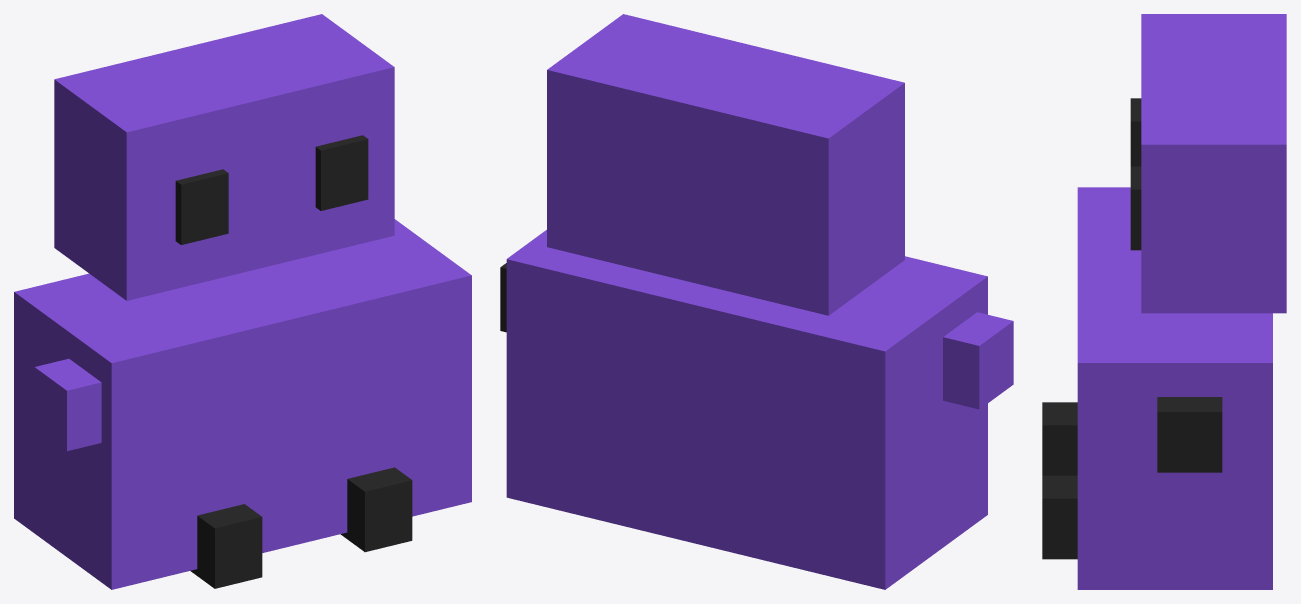
Rendered from sample.glb.
The picture shows the model from 3 angles, left to right: view 1: azimuth 30°, elevation 25°; view 2: azimuth 150°, elevation 25°; view 3: azimuth 270°, elevation 25°; orthographic projection. The views are drawn at different scales.
Parts seen in each view (by area): view 1: 立方体.006; view 2: 立方体.006; view 3: 立方体.006.
Part boxes in pixels (bbox=[...]): 立方体.006: bbox=[14, 14, 471, 589]; 立方体.006: bbox=[500, 14, 1013, 589]; 立方体.006: bbox=[1042, 14, 1286, 589].
Bounding box in the file's own units: 0.8405 × 0.8106 × 0.4174.
